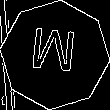M_S: (30, 27, 80, 83)
